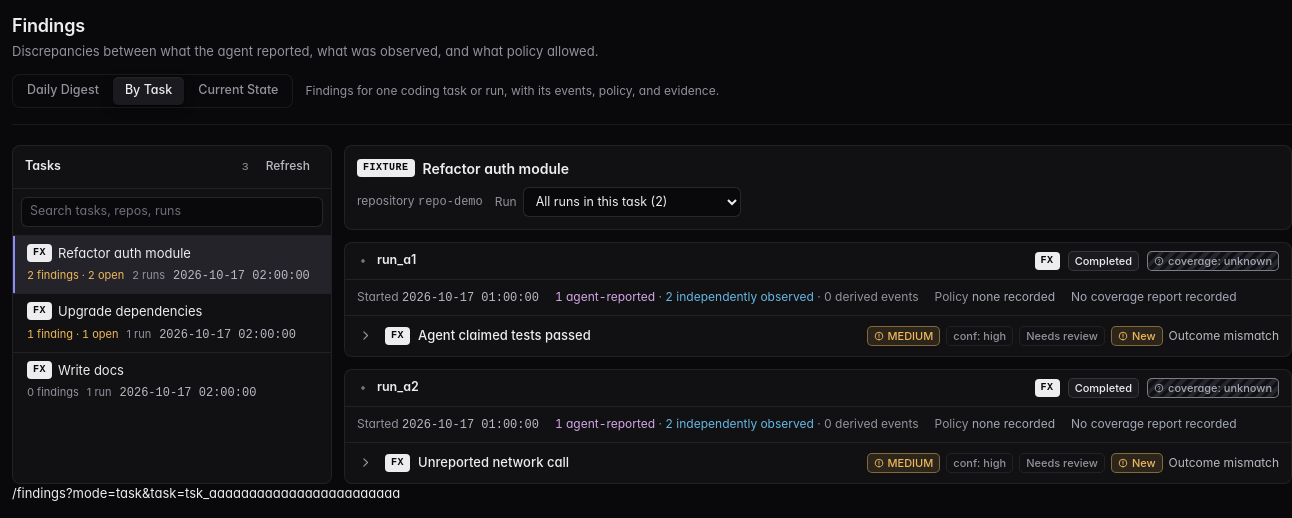
Test: verification additions (refresh, context preservation, error states) › By Task never refetches on its own; its explicit Refresh re-reads tasks and the open task's runs
Expected: the link "Agent claimed tests passed" is shown, [418,327,591,343]
Click the button "Refresh" at x=288, y=166, box [257,154,319,180]
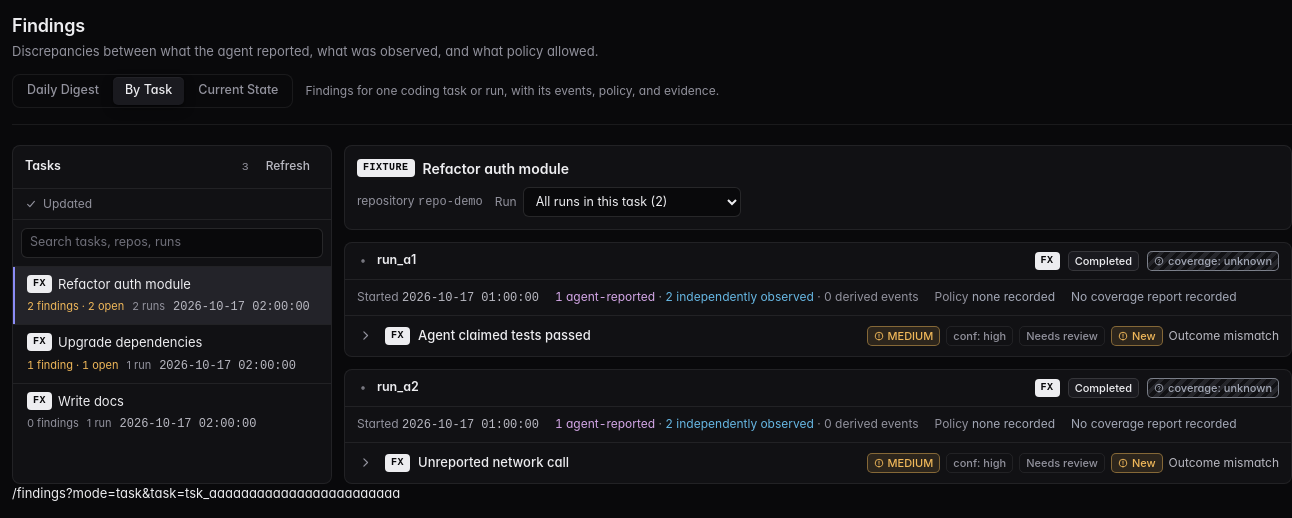
Expected: the text "Updated" is shown, [43,194,92,212]
